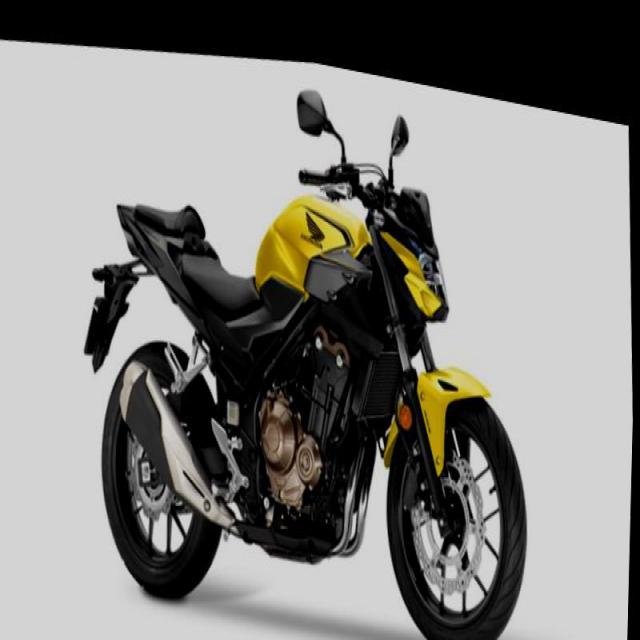CB500F: (70, 79, 543, 639)
